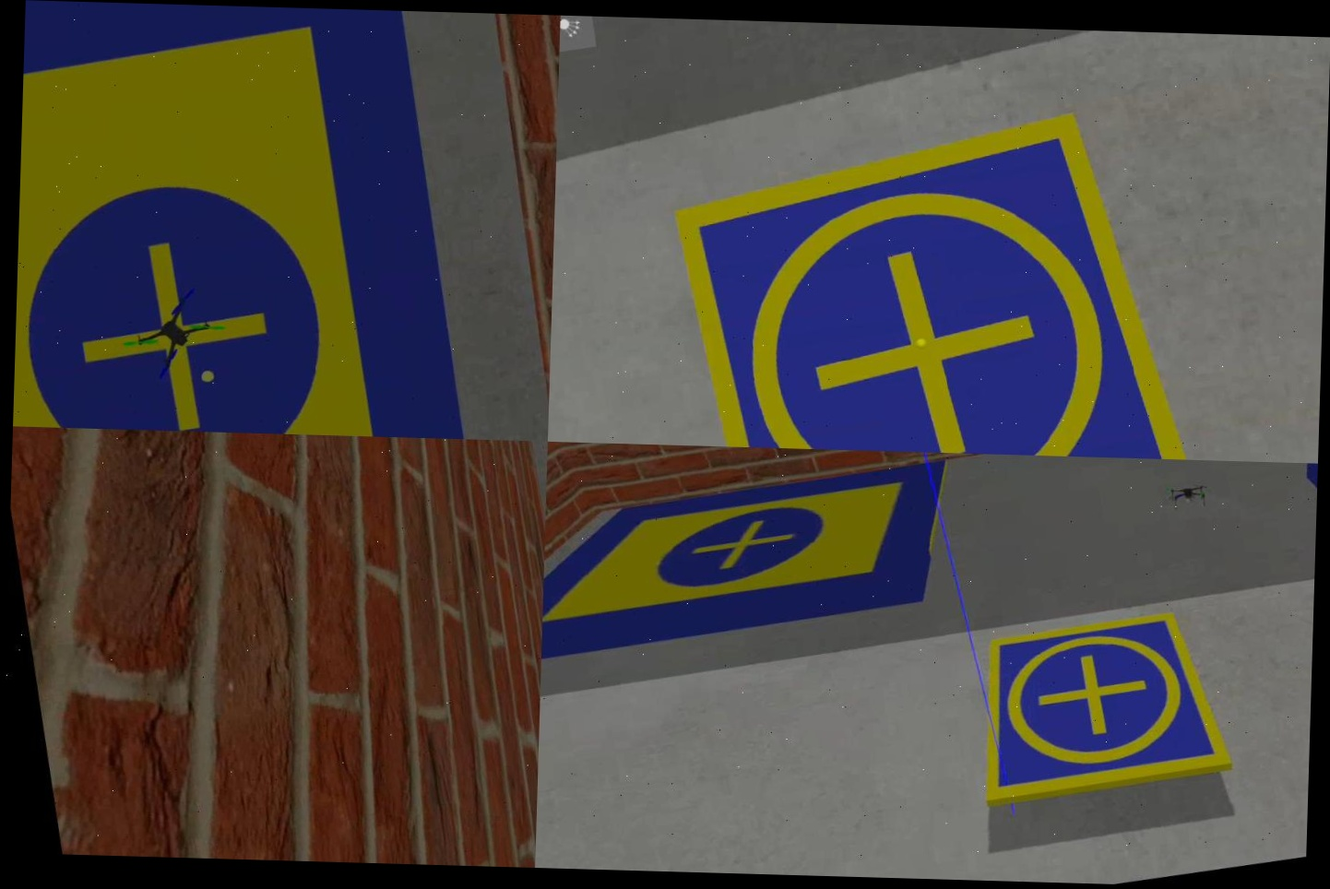large_base: (13, 0, 489, 440), (540, 446, 968, 686)
small_base: (657, 89, 1223, 460), (959, 598, 1241, 814)
